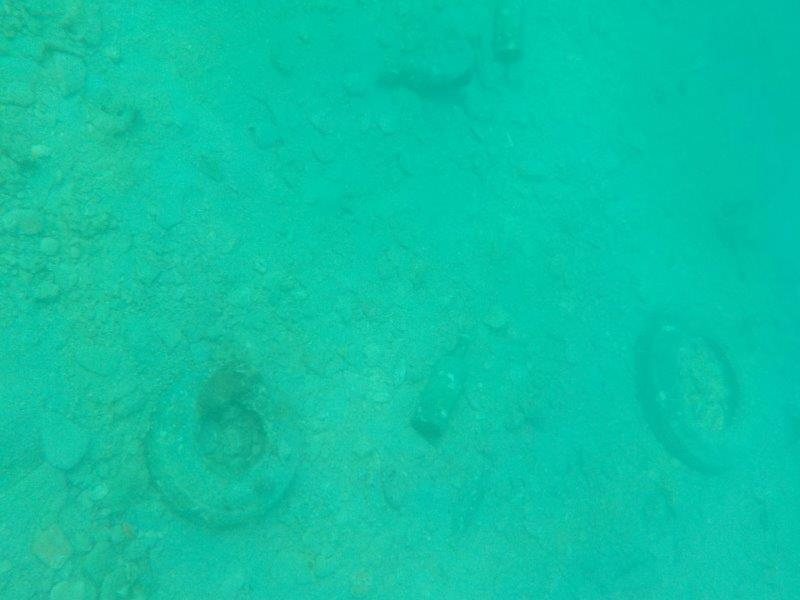bottle: (406, 327, 480, 439)
tire: (139, 350, 306, 534), (636, 300, 763, 476)
